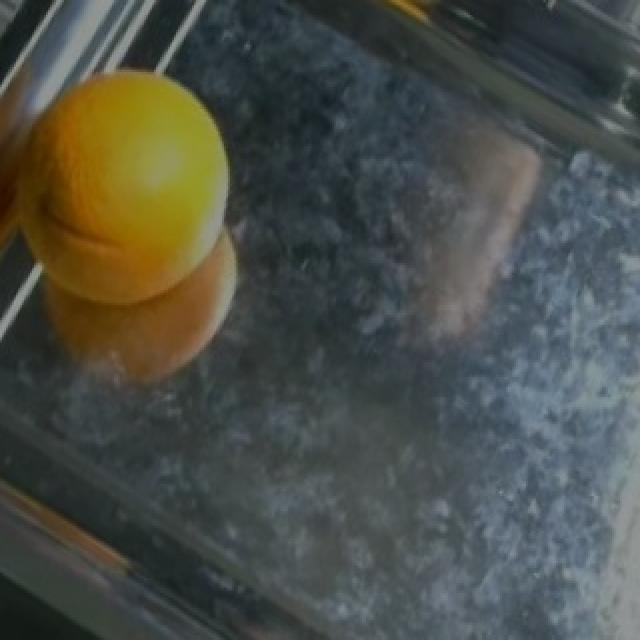Fruit: (4, 42, 268, 417)
